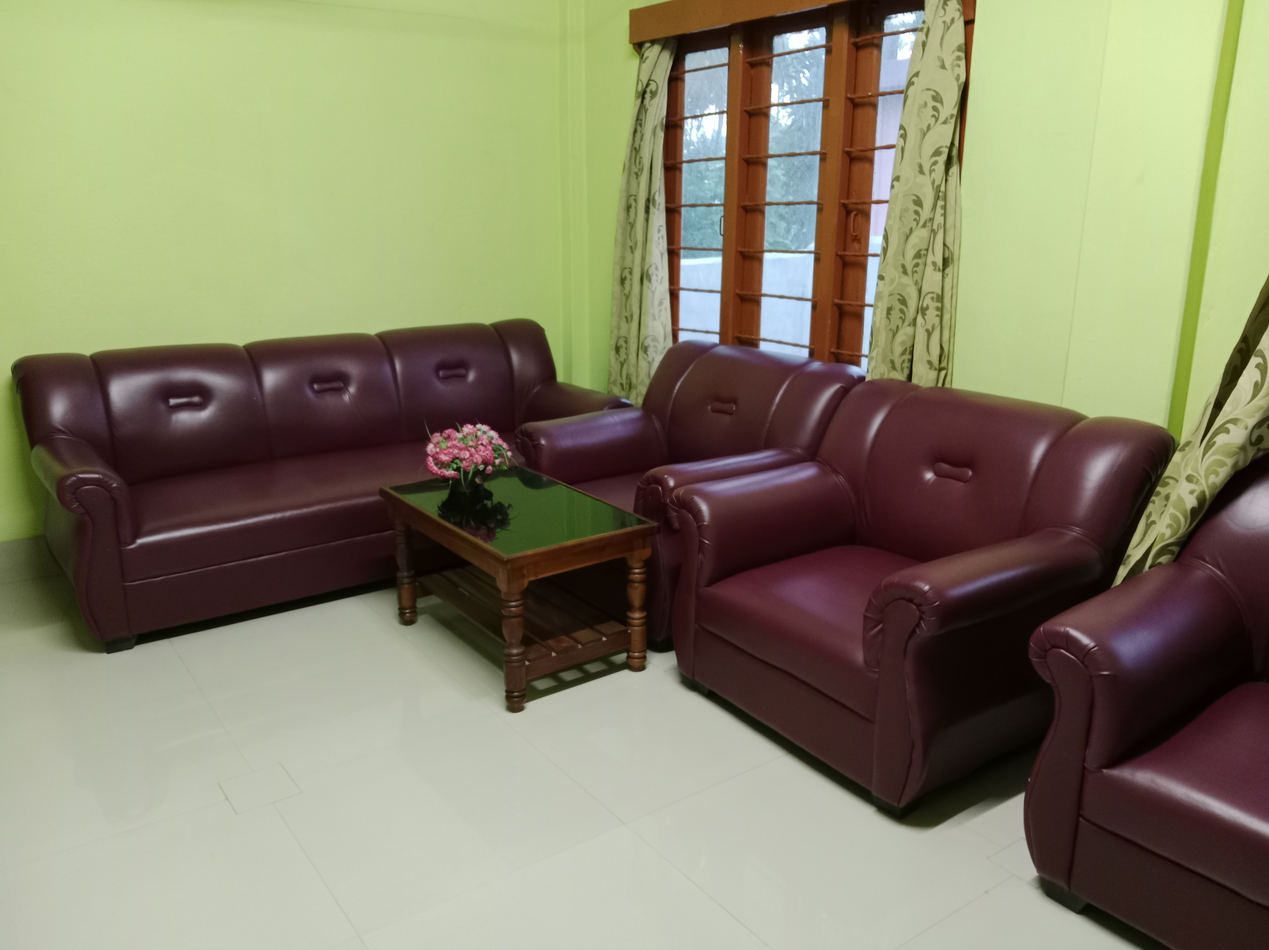sofa: (663, 382, 1174, 813), (14, 321, 632, 651), (1026, 477, 1269, 950), (516, 341, 867, 649)
table: (376, 459, 658, 712)
